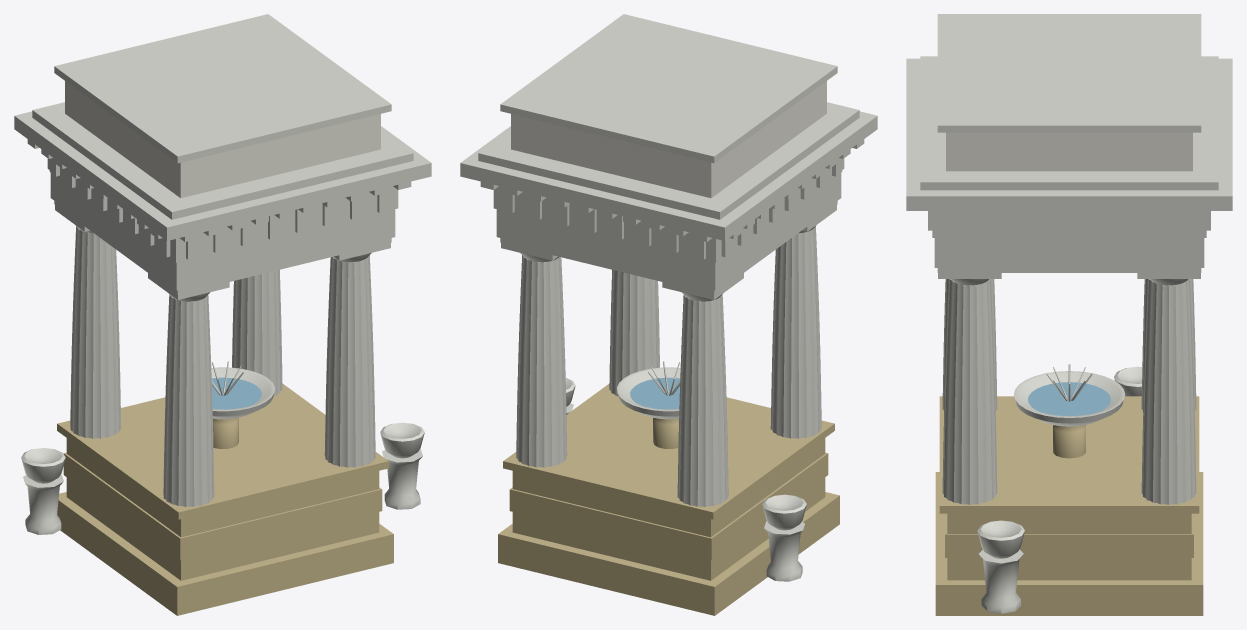
File: kolonnada_bulvar.glb
3 renders of one model, left to right at view 1: azimuth 30°, elevation 25°; view 2: azimuth 150°, elevation 25°; view 3: azimuth 270°, elevation 25°, orthographic. The views are drawn at different scales.
Visible parts, largest first — view 1: kolonnada_bulvar_trim, kolonnada_bulvar_stone, kolonnada_bulvar_trim_s, kolonnada_bulvar_wall, kolonnada_bulvar_glass; view 2: kolonnada_bulvar_trim, kolonnada_bulvar_stone, kolonnada_bulvar_trim_s, kolonnada_bulvar_wall, kolonnada_bulvar_glass; view 3: kolonnada_bulvar_trim, kolonnada_bulvar_stone, kolonnada_bulvar_trim_s, kolonnada_bulvar_wall, kolonnada_bulvar_glass.
Boxes of the visible parts, <box> form: kolonnada_bulvar_trim: <box>14,14,431,395</box>; kolonnada_bulvar_stone: <box>57,384,393,615</box>; kolonnada_bulvar_trim_s: <box>21,225,424,534</box>; kolonnada_bulvar_wall: <box>65,81,380,198</box>; kolonnada_bulvar_glass: <box>211,377,261,409</box>; kolonnada_bulvar_trim: <box>460,14,877,395</box>; kolonnada_bulvar_stone: <box>498,384,839,615</box>; kolonnada_bulvar_trim_s: <box>516,225,821,581</box>; kolonnada_bulvar_wall: <box>511,81,826,198</box>; kolonnada_bulvar_glass: <box>630,377,680,409</box>; kolonnada_bulvar_trim: <box>906,14,1232,401</box>; kolonnada_bulvar_stone: <box>935,396,1203,615</box>; kolonnada_bulvar_trim_s: <box>942,279,1196,613</box>; kolonnada_bulvar_wall: <box>946,132,1192,171</box>; kolonnada_bulvar_glass: <box>1028,382,1110,415</box>.
Size of the model in its own units: 7.24 by 9.5 by 5.74.
